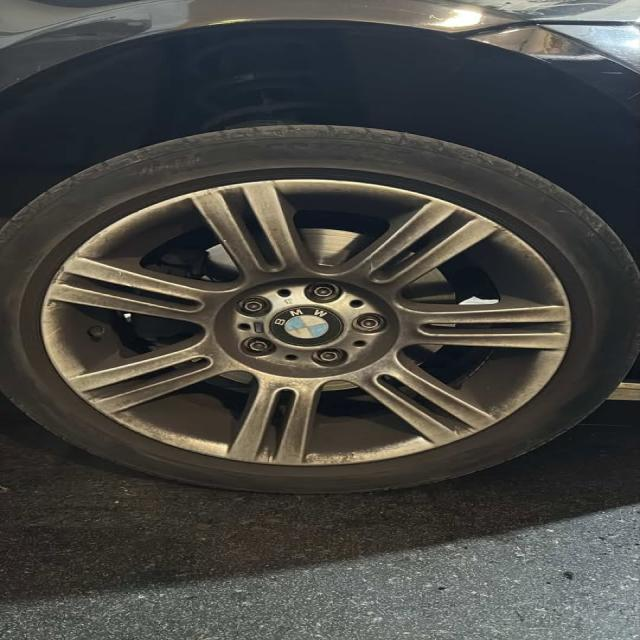jante: (40, 177, 574, 470)
parafuso: (346, 308, 394, 336), (232, 291, 277, 320), (229, 338, 288, 360), (304, 277, 343, 305), (308, 346, 351, 366)
roda: (0, 126, 640, 498)
